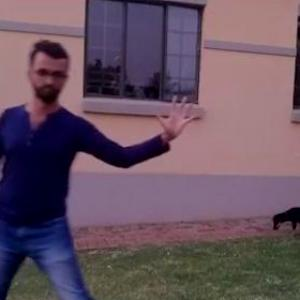follow_hand: (152, 90, 198, 139)
